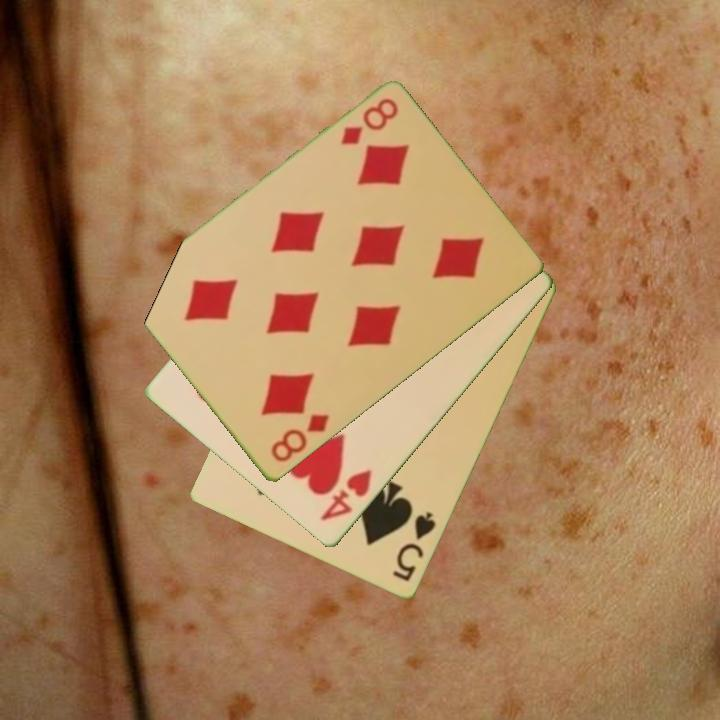4h: (317, 466, 375, 525)
5s: (389, 508, 439, 585)
8d: (267, 411, 332, 466), (337, 95, 402, 149)
